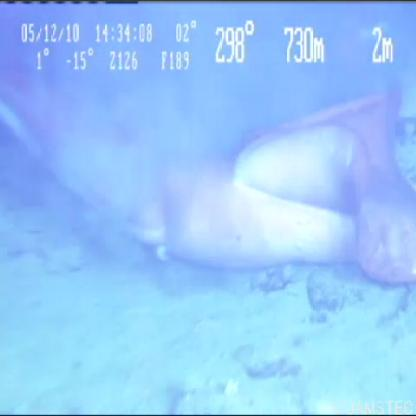Bio: (1, 80, 414, 290)
